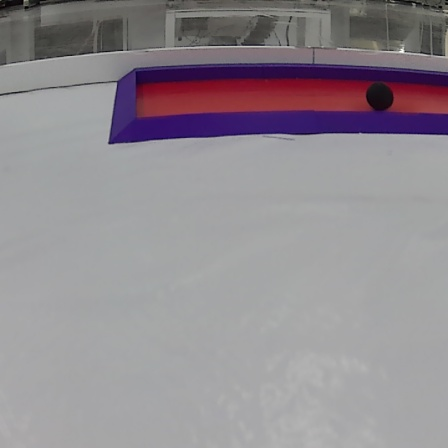black: (367, 81, 393, 112)
red_aim: (101, 61, 448, 145)
